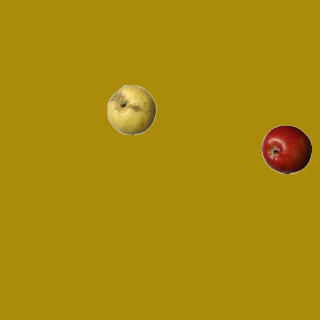Apple Braeburn: (261, 124, 311, 174)
Apple Golden 1: (106, 84, 156, 134)
